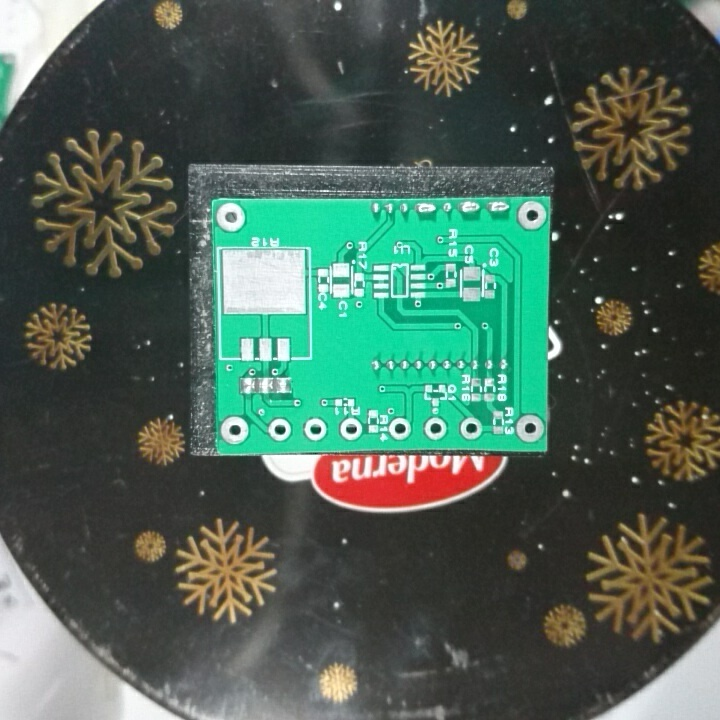F: (216, 200, 248, 235), (516, 200, 548, 234), (219, 415, 250, 446), (514, 413, 544, 443), (337, 415, 364, 444), (457, 415, 484, 443), (301, 415, 328, 443), (265, 416, 292, 444), (387, 415, 413, 443), (421, 415, 448, 441)
P: (414, 199, 439, 219), (486, 198, 511, 218), (457, 199, 482, 216)
